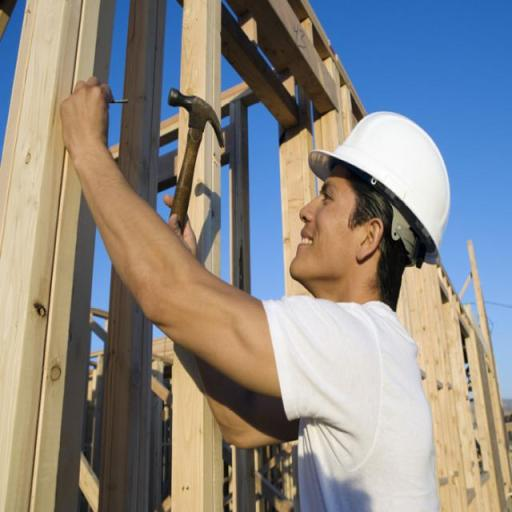helmet: (307, 106, 454, 256)
